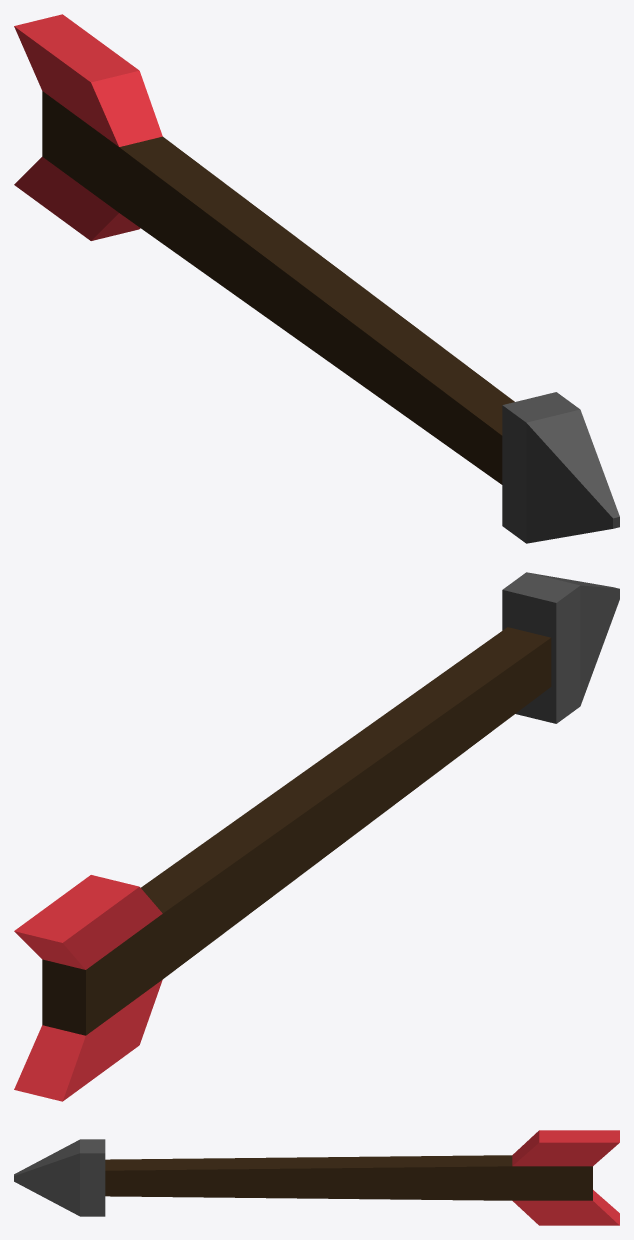
Rendered from Army_Arrow_Red.fbx.
3 views of the same model, one above another, from view 1: azimuth 30°, elevation 25°; view 2: azimuth 150°, elevation 25°; view 3: azimuth 270°, elevation 25° (orthographic). The views are drawn at different scales.
Visible parts, largest first — view 1: Arrow Red; view 2: Arrow Red; view 3: Arrow Red.
Part boxes in pixels (x1,y1,x2,y2): Arrow Red: (14,14,619,543); Arrow Red: (14,572,619,1101); Arrow Red: (14,1130,619,1225).
Size of the model in its own units: 0.0313 by 0.0877 by 0.5793.
